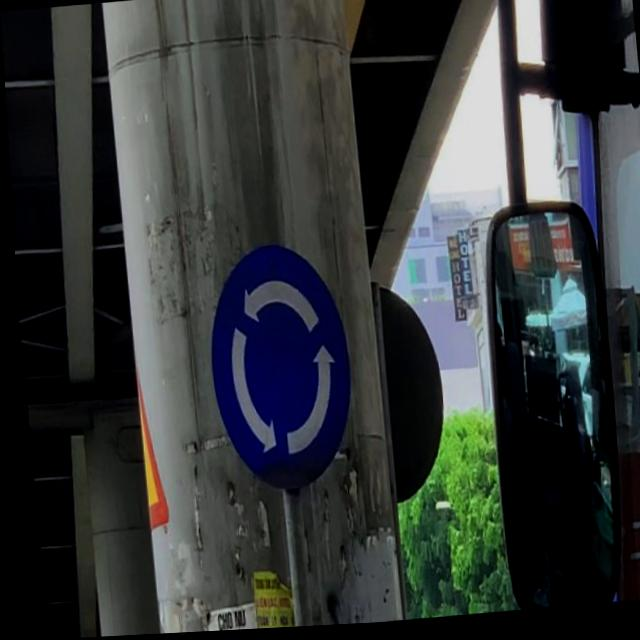Noi giao nhau chay theo vong xuyen: (193, 235, 358, 503)
